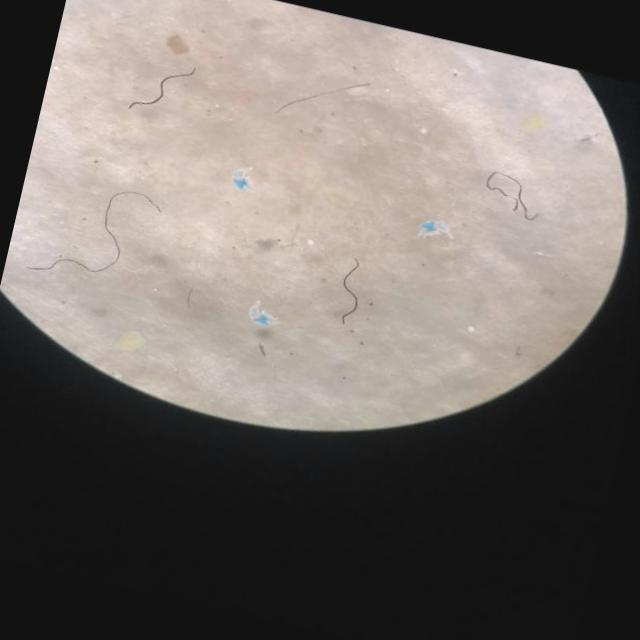fiber: (33, 191, 160, 273), (128, 67, 196, 108), (276, 83, 370, 112), (485, 171, 536, 220), (341, 258, 360, 324)
film: (250, 305, 278, 327), (426, 220, 452, 239), (237, 169, 252, 190)
fragment: (167, 34, 189, 54), (118, 332, 143, 349), (524, 114, 546, 131)
pellet: (467, 326, 475, 333), (420, 127, 427, 134), (307, 239, 313, 246)
